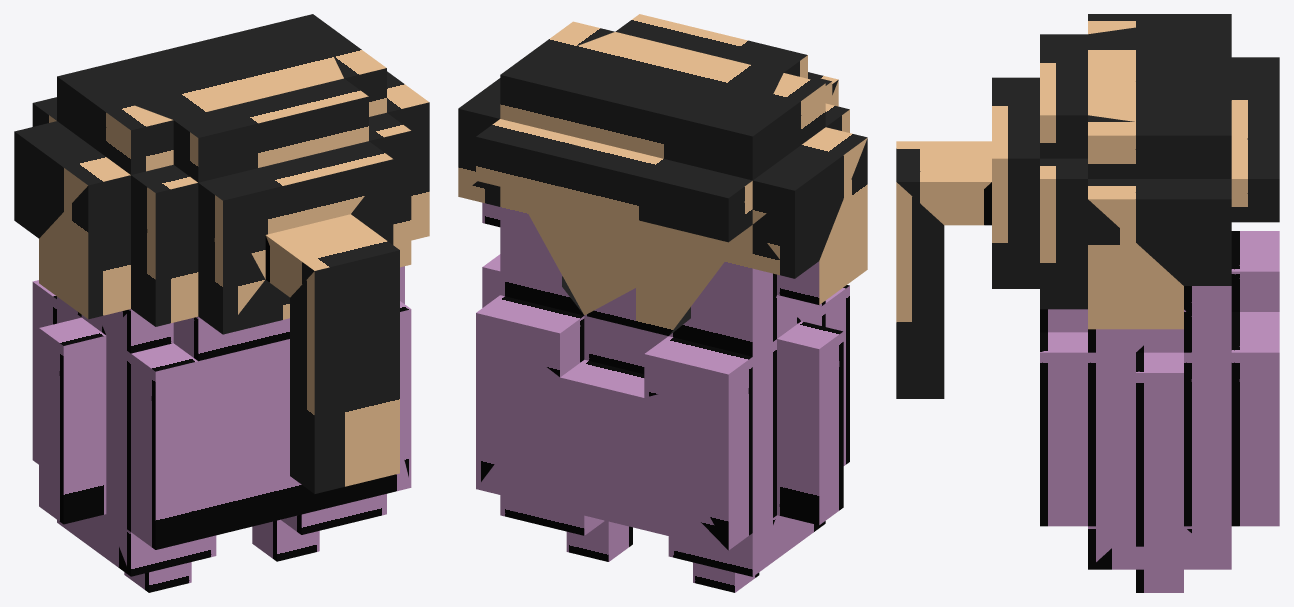
File: chr_naked3.dae
3 views of the same model, side by side, from view 1: azimuth 30°, elevation 25°; view 2: azimuth 150°, elevation 25°; view 3: azimuth 270°, elevation 25° (orthographic). The views are drawn at different scales.
Parts seen in each view (by area): view 1: chr_naked3; view 2: chr_naked3; view 3: chr_naked3.
Boxes of the visible parts, x1=… form: chr_naked3: x1=14, y1=14, x2=429, y2=592; chr_naked3: x1=458, y1=14, x2=867, y2=592; chr_naked3: x1=896, y1=14, x2=1279, y2=592.
Bounding box in the file's own units: 0.8 × 0.8 × 1.1.
1 material, 1 textured.
